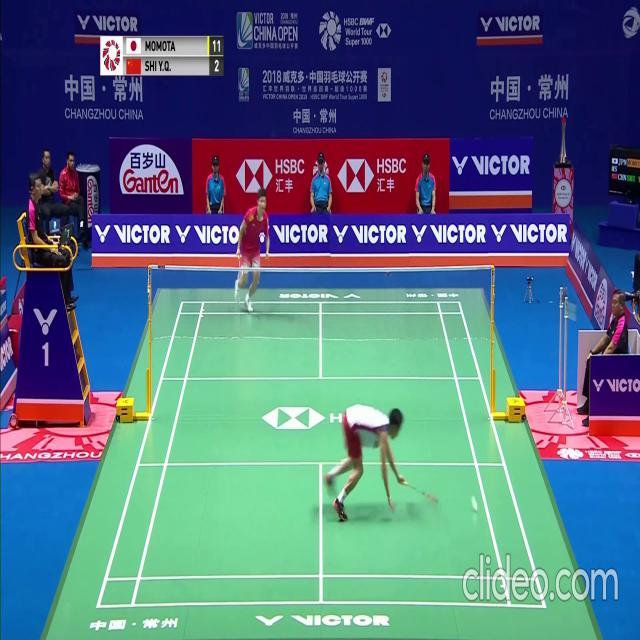Shuttlecock: (474, 504, 479, 512)
